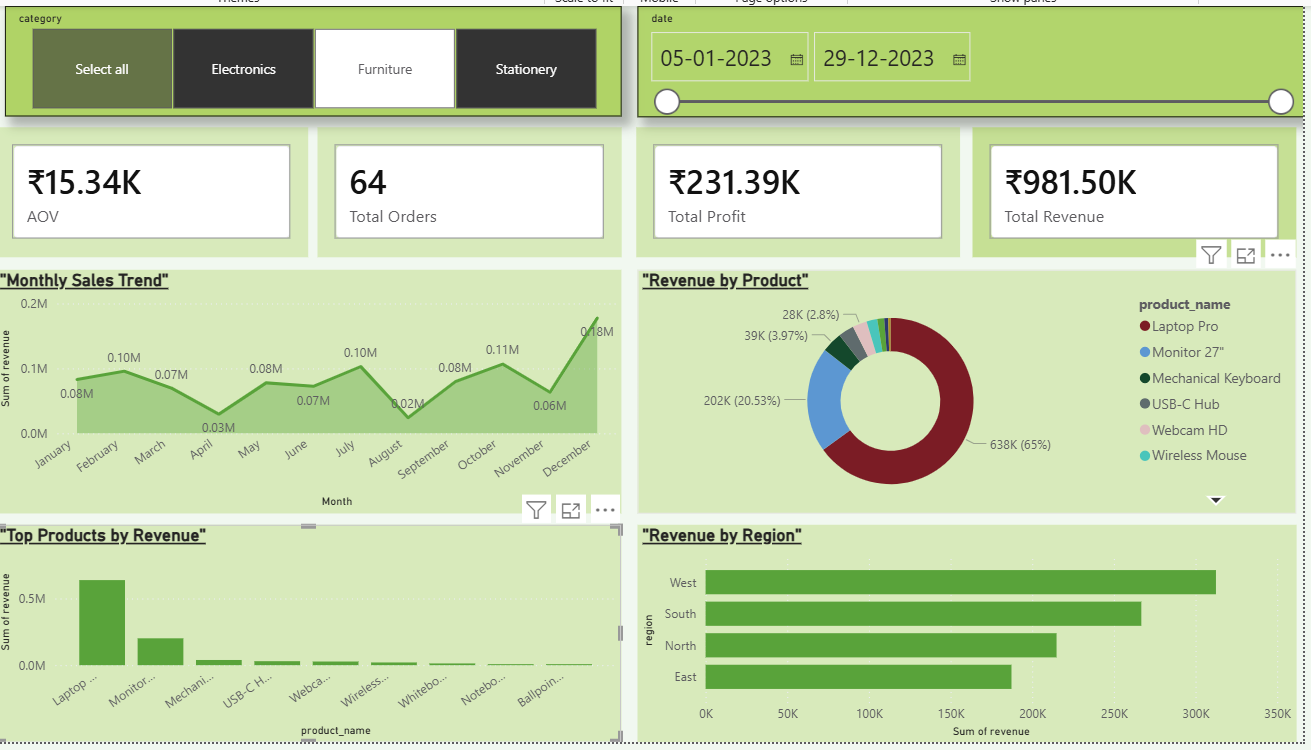

The page's visual inventory and layout, read from the dashboard file:
{"tool":"powerbi","page":{"name":"Page 1","canvas":[1280,720],"ordinal":0},"visuals":[{"type":"slicer","fields":{"Values":["revenue_data.category"]},"box":[10,0,602.9,108.3],"z":0},{"type":"slicer","fields":{"Values":["revenue_data.date"]},"box":[628.5,0,651.8,108.8],"z":1},{"type":"cardVisual","fields":{"Data":["revenue_data.AOV"]},"box":[0,118.3,306.5,126.9],"z":2},{"type":"cardVisual","fields":{"Data":["revenue_data.Total Profit"]},"box":[627.2,118.3,316.4,126.9],"z":3},{"type":"cardVisual","fields":{"Data":["revenue_data.Total Revenue"]},"box":[956.4,118.3,316.4,126.9],"z":4},{"type":"cardVisual","fields":{"Data":["revenue_data.Total Orders"]},"box":[315,118.3,297.9,126.9],"z":5},{"type":"lineChart","title":"\"Monthly Sales Trend\"","fields":{"Category":["revenue_data.date.Variation.Date Hierarchy.Month","revenue_data.date.Variation.Date Hierarchy.Day"],"Y":["Sum(revenue_data.revenue)"]},"box":[0,258,612.9,238],"z":6},{"type":"donutChart","title":"\"Revenue by Product\"","fields":{"Y":["Sum(revenue_data.revenue)"],"Category":["revenue_data.product_name"]},"box":[628.6,258,644.3,238],"z":7},{"type":"columnChart","title":"\"Top Products by Revenue\"","fields":{"Y":["Sum(revenue_data.revenue)"],"Category":["revenue_data.product_name"]},"box":[0,507.4,612.9,212.4],"z":8},{"type":"barChart","title":"\"Revenue by Region\"","fields":{"Category":["revenue_data.region"],"Y":["Sum(revenue_data.revenue)"]},"box":[628,507,645,213],"z":9}]}

Visuals, with their boxes on the page's 1280x720 design canvas (x1, y1, x2, y2). These are canvas units, not pixel positions in the 1311x750 screenshot, which may show the page scaled, cropped or inside an application window:
slicer - revenue_data.category: left=10, top=0, right=613, bottom=108
slicer - revenue_data.date: left=628, top=0, right=1280, bottom=109
cardVisual - revenue_data.AOV: left=0, top=118, right=306, bottom=245
cardVisual - revenue_data.Total Profit: left=627, top=118, right=944, bottom=245
cardVisual - revenue_data.Total Revenue: left=956, top=118, right=1273, bottom=245
cardVisual - revenue_data.Total Orders: left=315, top=118, right=613, bottom=245
""Monthly Sales Trend"" lineChart: left=0, top=258, right=613, bottom=496
""Revenue by Product"" donutChart: left=629, top=258, right=1273, bottom=496
""Top Products by Revenue"" columnChart: left=0, top=507, right=613, bottom=720
""Revenue by Region"" barChart: left=628, top=507, right=1273, bottom=720
